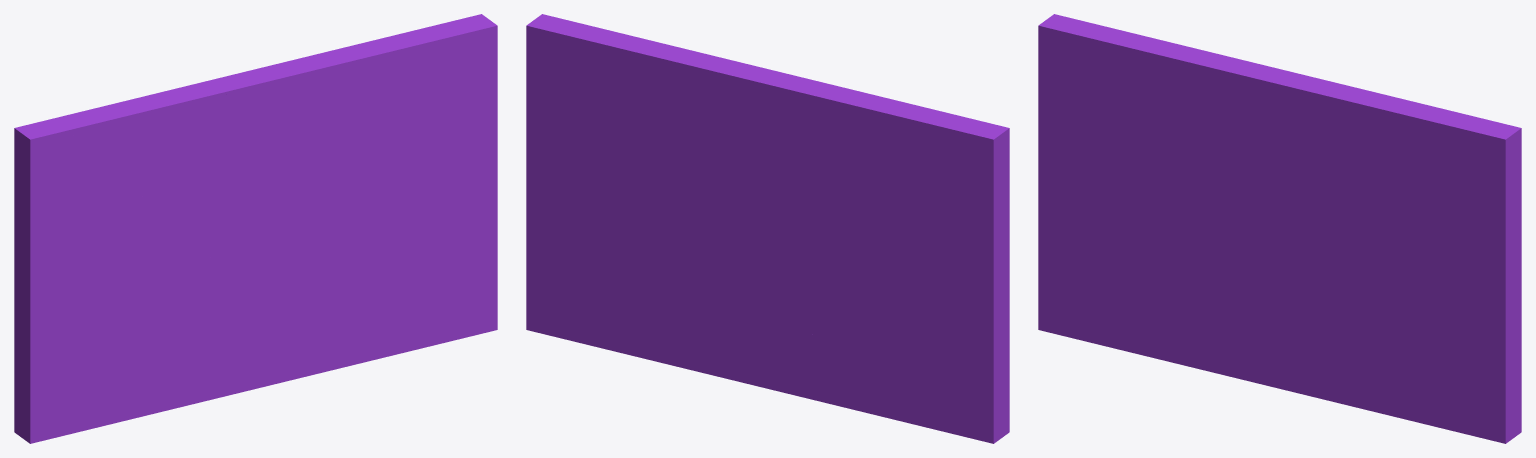
The model's file is Barrier_36_chunks.fbx.
3 views of the same model, side by side, from view 1: azimuth 30°, elevation 25°; view 2: azimuth 150°, elevation 25°; view 3: azimuth 330°, elevation 25° (orthographic).
Visible parts, largest first — view 1: Barrier_36_1, Barrier_36_2, Barrier_36_0, Barrier_36_3, Barrier_36_4, Barrier_36_5, Barrier_36_6; view 2: Barrier_36_1, Barrier_36_2, Barrier_36_4, Barrier_36_3, Barrier_36_6, Barrier_36_0; view 3: Barrier_36_2, Barrier_36_1, Barrier_36_0, Barrier_36_3, Barrier_36_4, Barrier_36_5, Barrier_36_6.
Part boxes in pixels (x1=…): Barrier_36_1: x1=14, y1=89, x2=230, y2=443; Barrier_36_2: x1=181, y1=14, x2=497, y2=230; Barrier_36_0: x1=68, y1=87, x2=278, y2=275; Barrier_36_3: x1=147, y1=258, x2=339, y2=415; Barrier_36_4: x1=333, y1=240, x2=497, y2=369; Barrier_36_5: x1=319, y1=214, x2=497, y2=306; Barrier_36_6: x1=250, y1=225, x2=350, y2=277; Barrier_36_1: x1=754, y1=100, x2=1009, y2=443; Barrier_36_2: x1=526, y1=14, x2=828, y2=237; Barrier_36_4: x1=526, y1=221, x2=703, y2=373; Barrier_36_3: x1=697, y1=276, x2=857, y2=410; Barrier_36_6: x1=625, y1=228, x2=776, y2=297; Barrier_36_0: x1=814, y1=80, x2=970, y2=118; Barrier_36_2: x1=1220, y1=54, x2=1521, y2=328; Barrier_36_1: x1=1038, y1=14, x2=1238, y2=358; Barrier_36_0: x1=1076, y1=35, x2=1286, y2=259; Barrier_36_3: x1=1155, y1=251, x2=1347, y2=403; Barrier_36_4: x1=1342, y1=324, x2=1521, y2=443; Barrier_36_5: x1=1328, y1=268, x2=1513, y2=354; Barrier_36_6: x1=1258, y1=237, x2=1358, y2=304.
Bounding box in the file's own units: 462 × 288 × 27.2.
